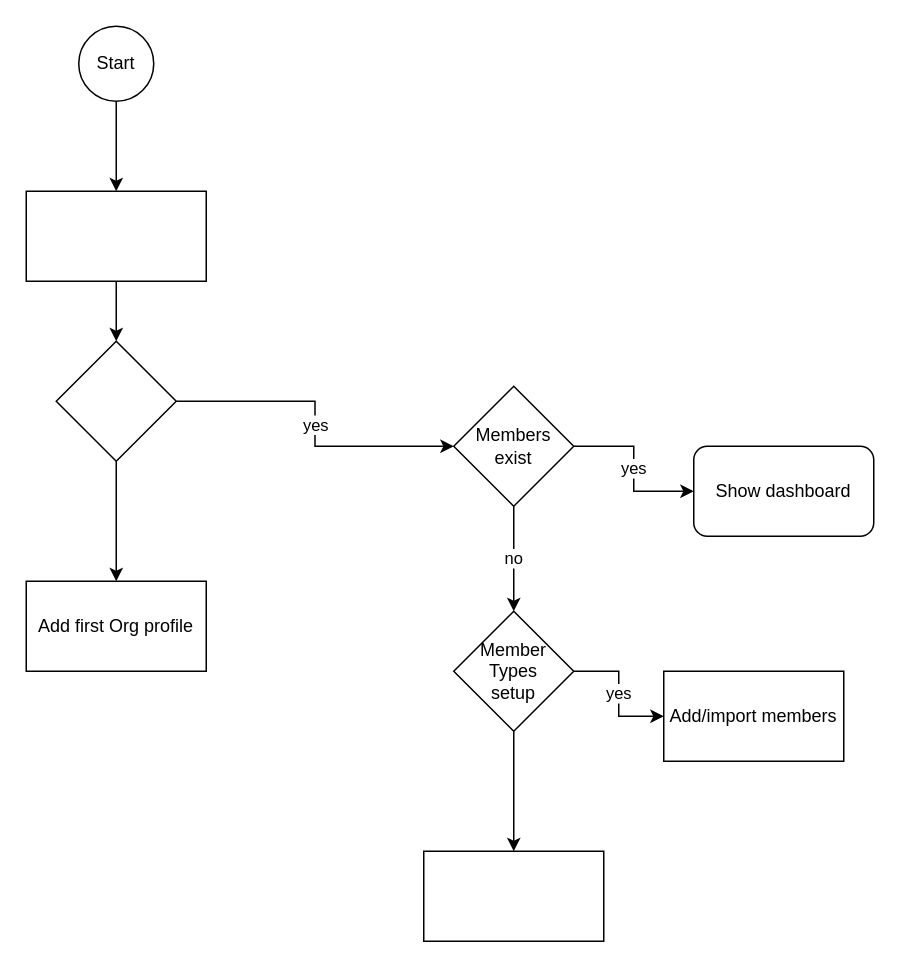
This 900x968 diagram has some shape labels left out. Each missing label, with the centre of its shape:
"Add / import members" belongs at point (513, 895).
"Initial login" belongs at point (115, 235).
"Org exists" belongs at point (115, 400).
